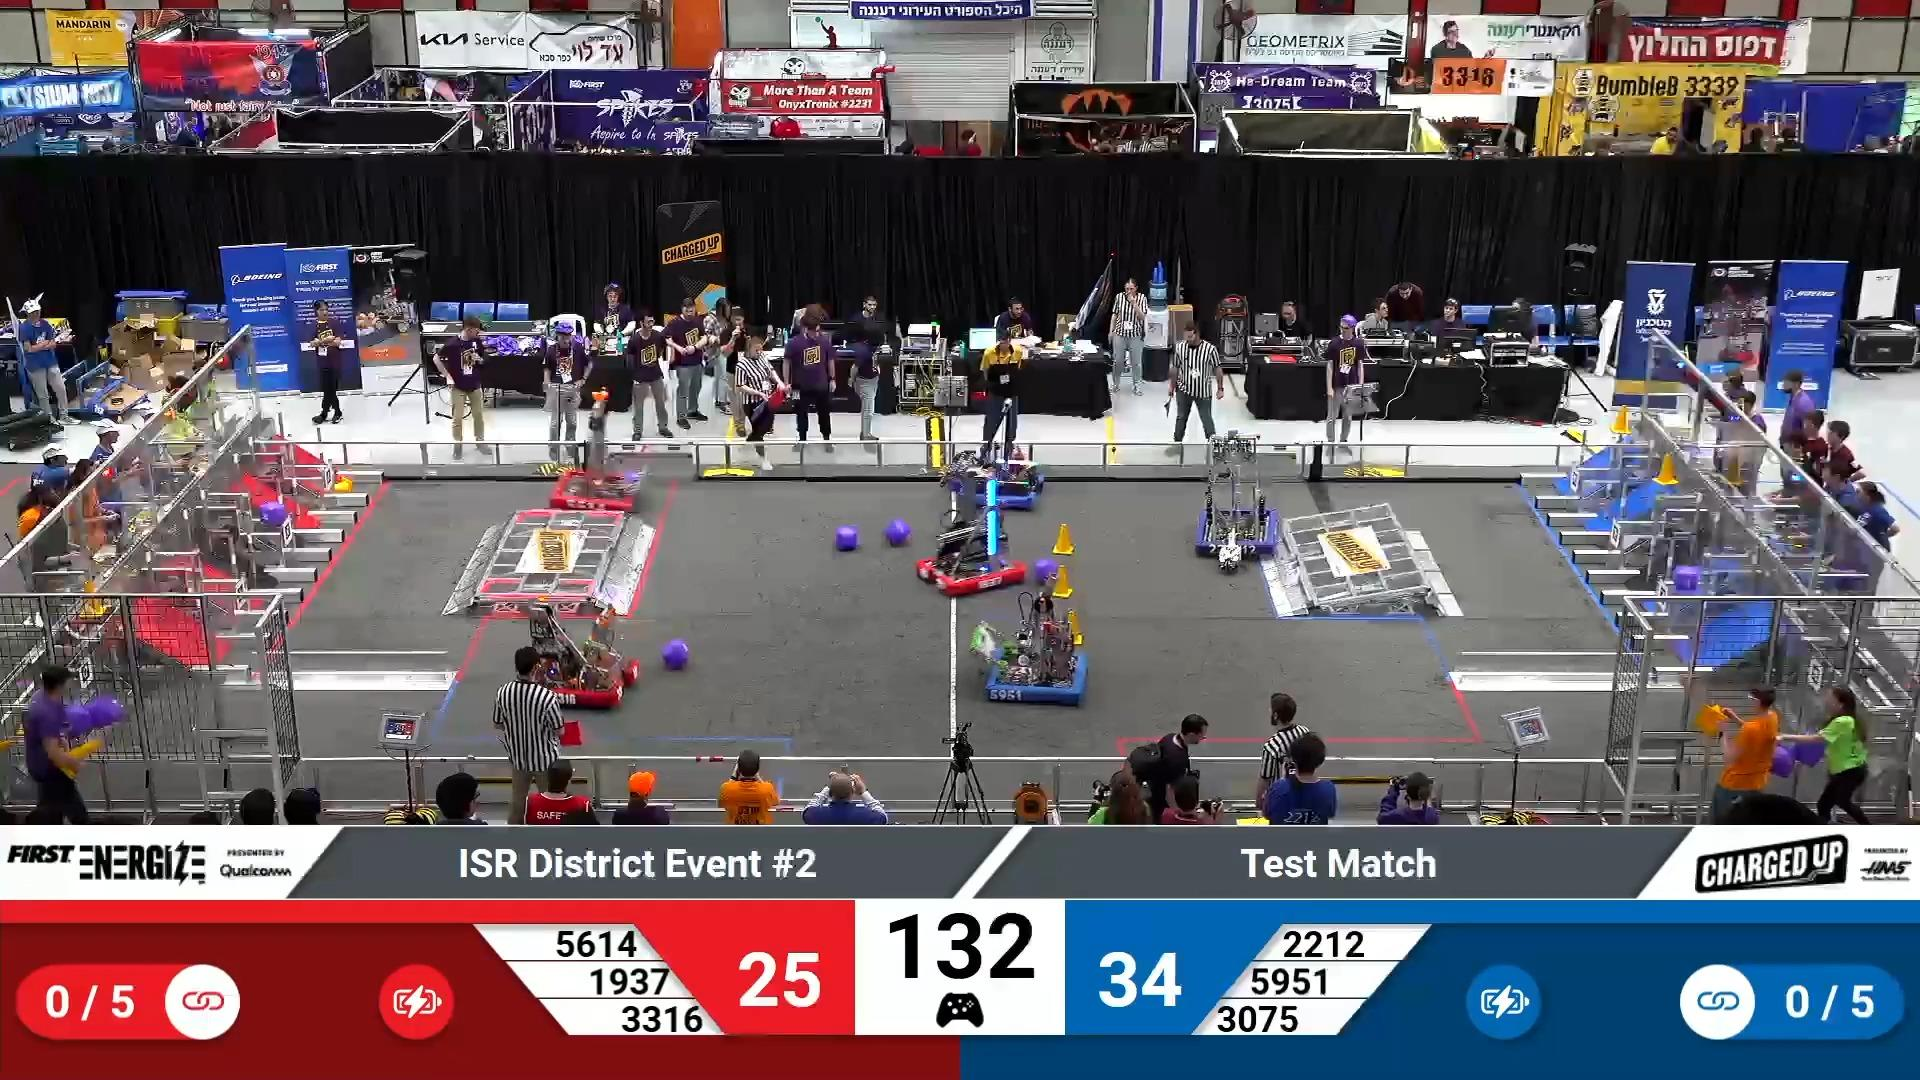robot: (972, 572, 1092, 707), (914, 462, 1022, 595), (518, 599, 644, 707), (551, 389, 646, 510), (1191, 439, 1275, 574), (948, 397, 1047, 512)
